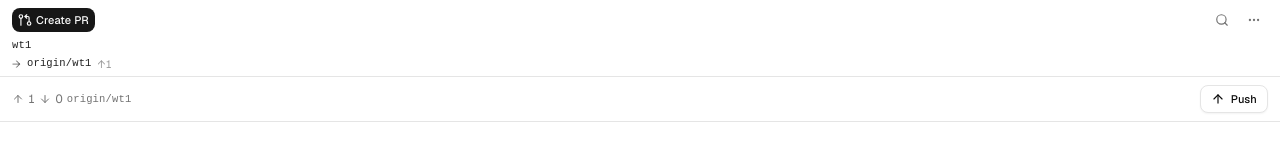
Scenario: changes panel remote wiring (#175/#176) › #176: a failed Create PR on a clean branch still shows the mapped error
The width and height of the screenshot is (1280, 160).
What coordinates should you click on to do the following:
click the button "Create PR"
I would click on:
 (54, 20)
Its box is [12,8,95,32].
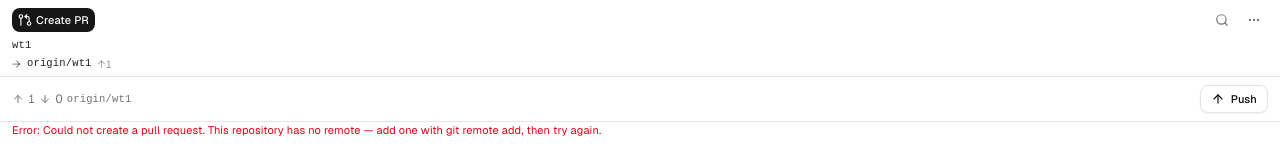
Check: the message shows "This repository has no remote", box [12,123,601,137]
Check: the message shows "git remote add", box [12,123,601,137]
